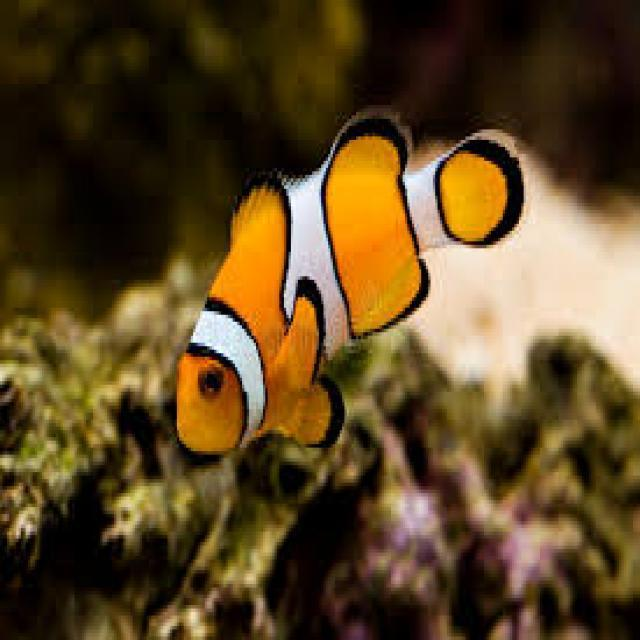ClownFish: (172, 103, 527, 458)
